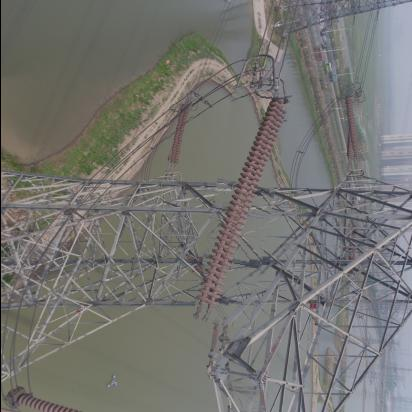insulator: (203, 88, 282, 328), (166, 104, 197, 168), (343, 92, 369, 164)
